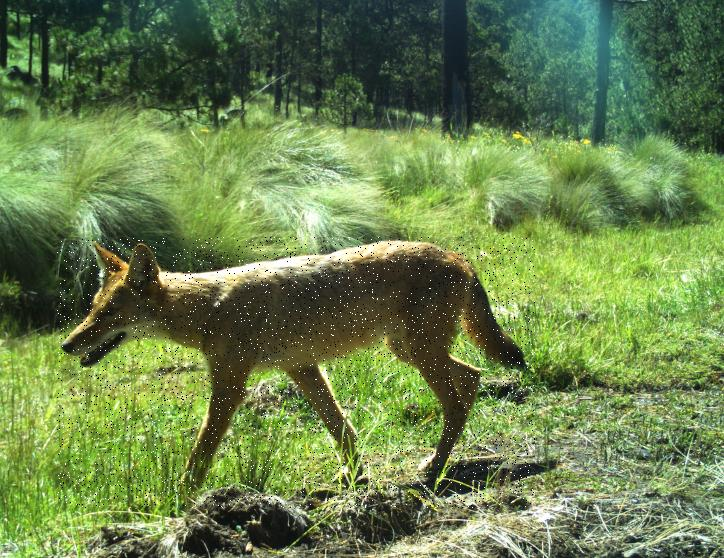Coyote: (56, 238, 534, 509)
